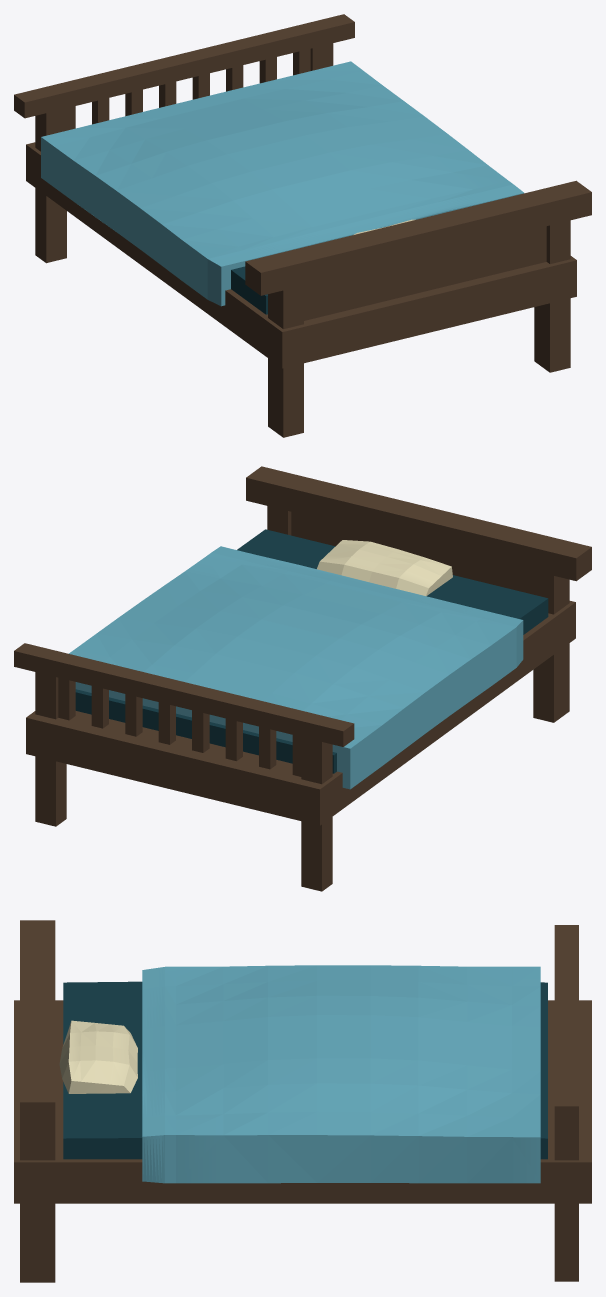
File: sons bed.fbx
The picture shows the model from 3 angles, top to bottom: view 1: azimuth 30°, elevation 25°; view 2: azimuth 150°, elevation 25°; view 3: azimuth 270°, elevation 25°; orthographic projection. The views are drawn at different scales.
Visible parts, largest first — view 1: Bed; view 2: Bed; view 3: Bed.
Boxes of the visible parts, x1=… form: Bed: x1=14, y1=14, x2=591, y2=437; Bed: x1=14, y1=466, x2=591, y2=891; Bed: x1=14, y1=920, x2=591, y2=1282.
Size of the model in its own units: 684 by 336 by 917.
